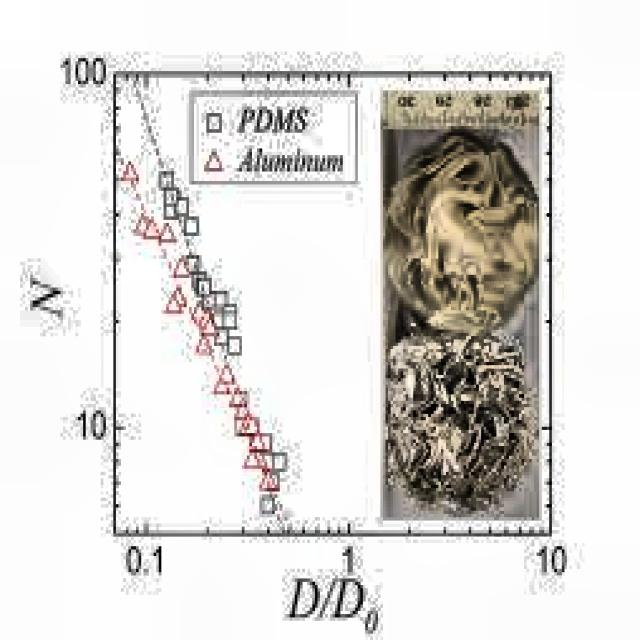Foil: (365, 329, 537, 510)
